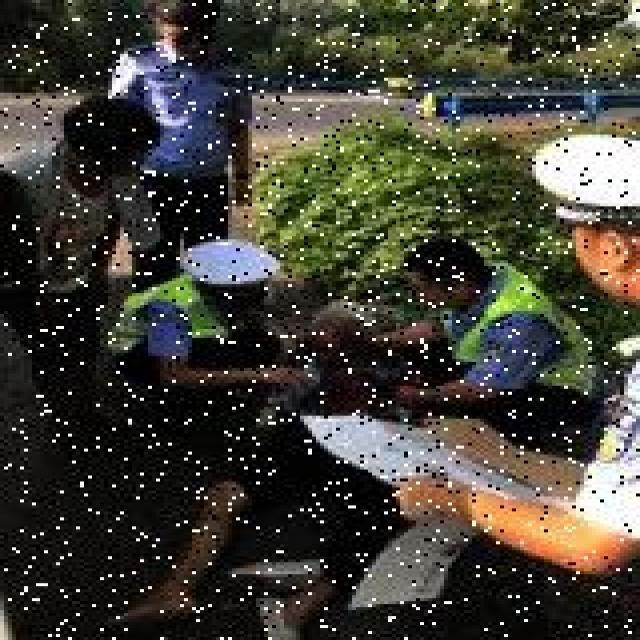fall: (192, 302, 392, 637)
